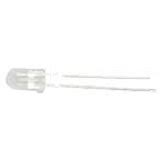LED: (4, 66, 157, 98)
